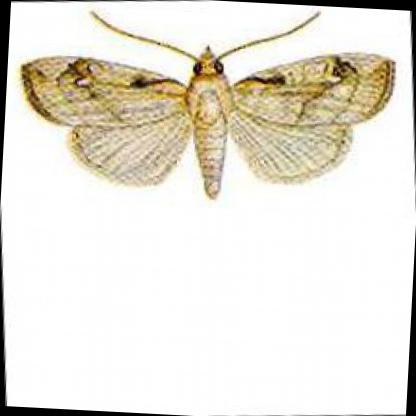Leaf Webber: (14, 41, 397, 195)
